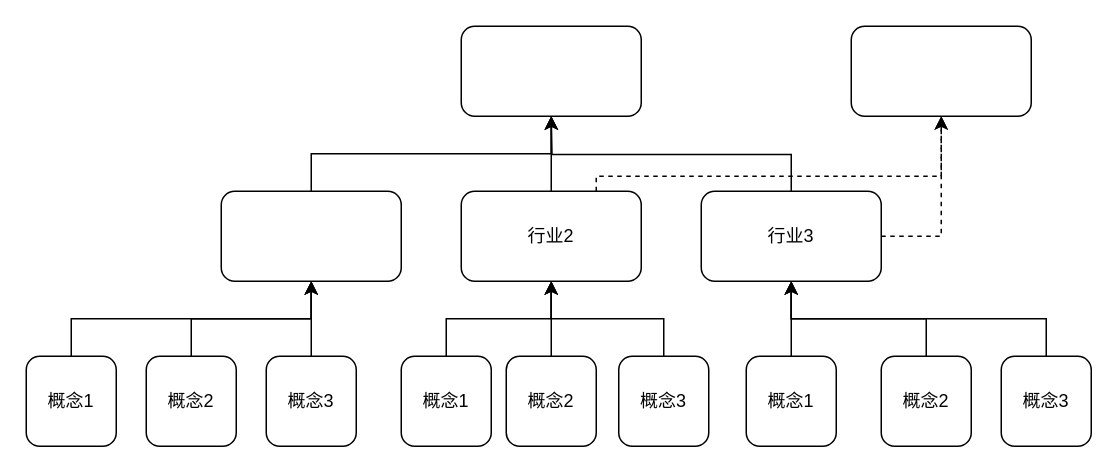
This 1118x473 diagram has some shape labels left out. Each missing label, with the box of its shape:
行业1: (220, 190, 401, 281)
行业根标签: (460, 25, 641, 116)
行业组合标签: (850, 25, 1031, 116)
